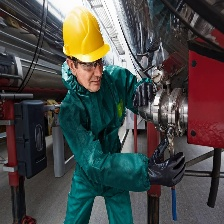helmet: (60, 6, 111, 66)
no-vest: (60, 90, 135, 191)
person: (58, 4, 145, 224)
